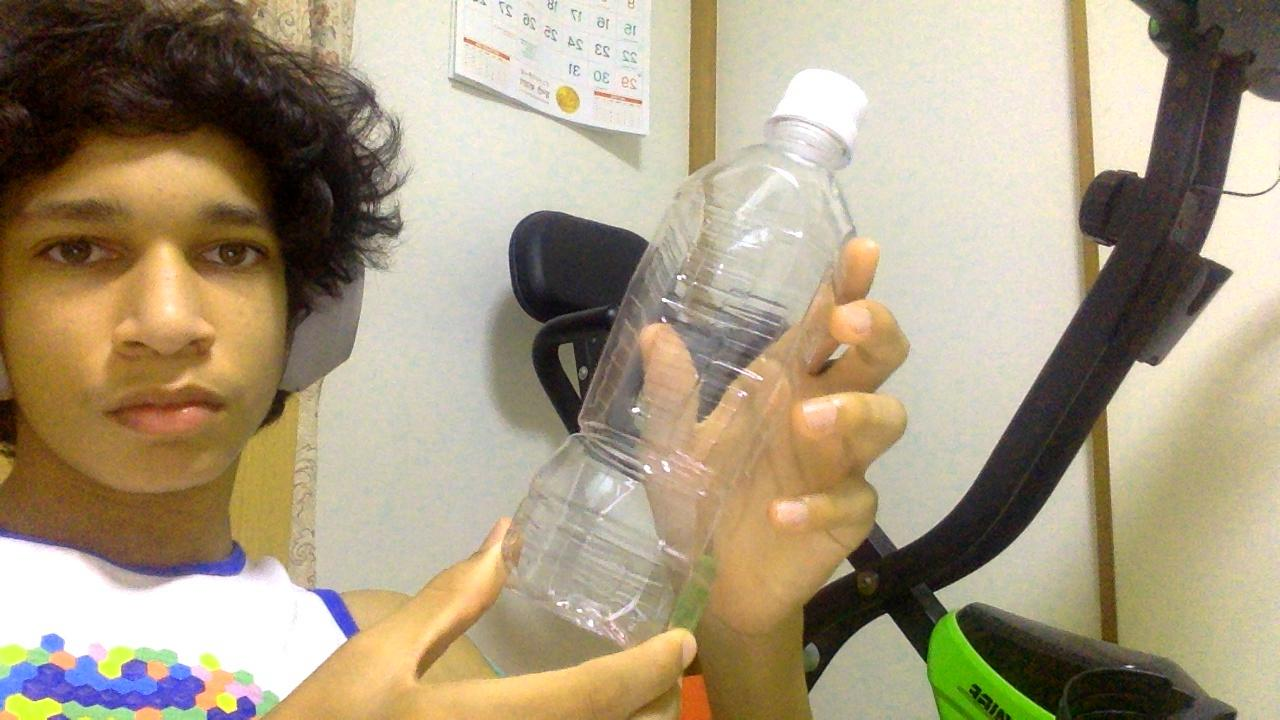Plastic: (489, 67, 878, 652)
